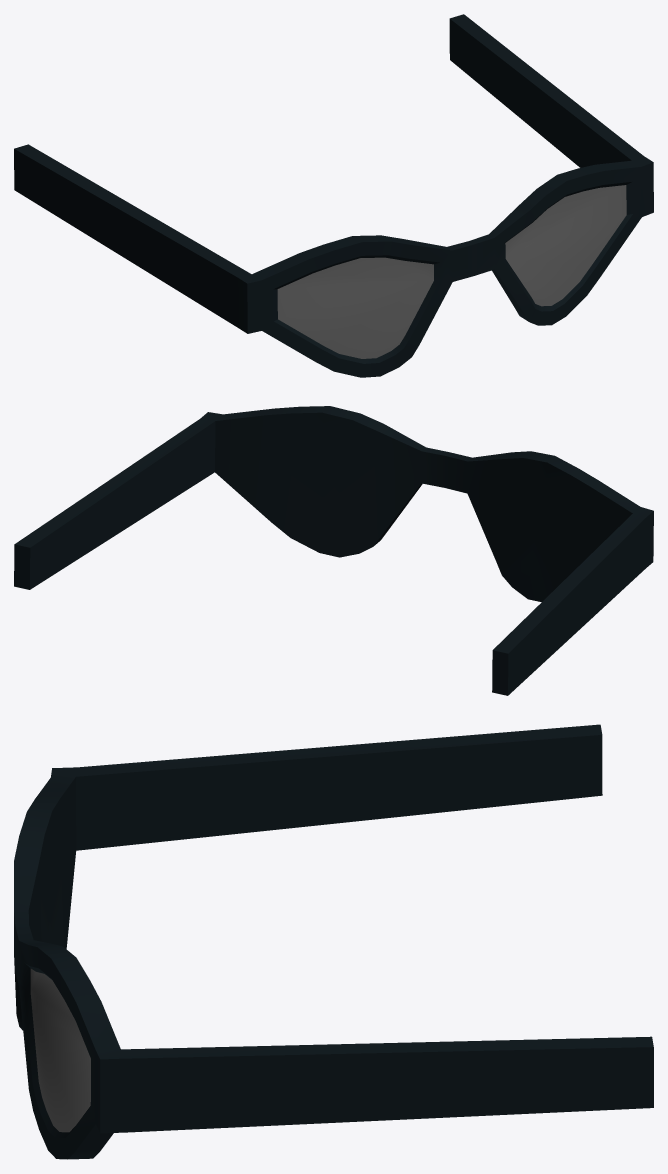
Rendered from EyeGlass.fbx.
3 renders of one model, top to bottom at view 1: azimuth 30°, elevation 25°; view 2: azimuth 150°, elevation 25°; view 3: azimuth 270°, elevation 25°, orthographic. The views are drawn at different scales.
Visible parts, largest first — view 1: Eyeglass; view 2: Eyeglass; view 3: Eyeglass.
Boxes of the visible parts, x1,y1,x2,y2 form: Eyeglass: [14, 14, 653, 377]; Eyeglass: [14, 406, 653, 695]; Eyeglass: [14, 724, 653, 1159].
Size of the model in its own units: 39.77 by 11.54 by 32.31.
